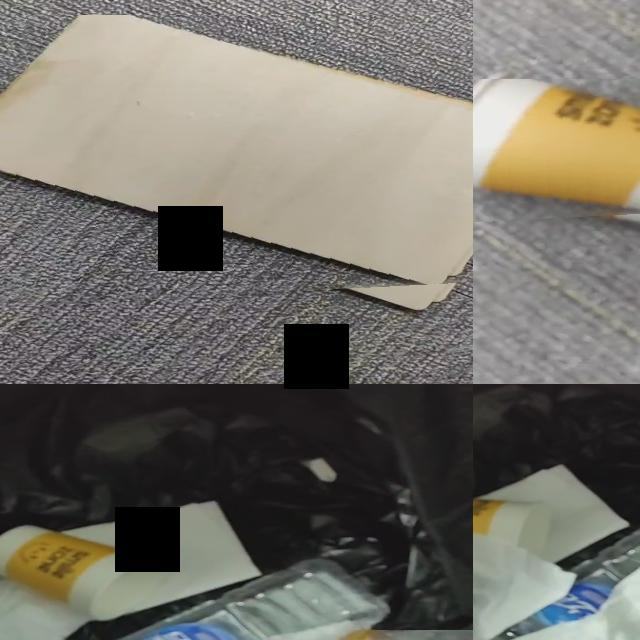bottle: (117, 558, 388, 640), (504, 529, 640, 638)
carton: (0, 15, 473, 291)
dixie_cup: (473, 79, 640, 212), (0, 526, 166, 620), (473, 499, 550, 557)
paper: (66, 502, 259, 610), (475, 466, 627, 564), (473, 535, 579, 640), (269, 620, 362, 640)
